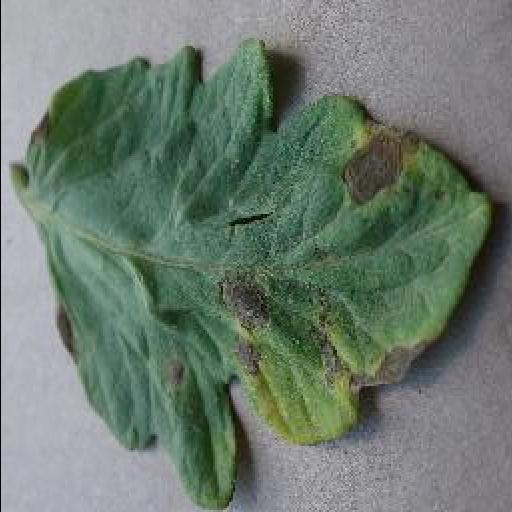disease_tomato: (2, 44, 490, 508)
